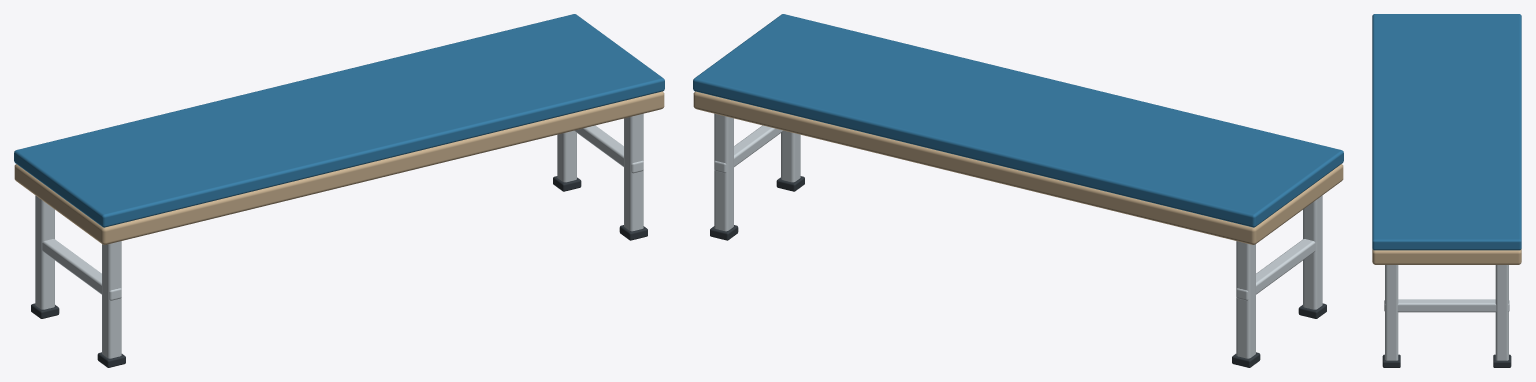
Rendered from equipment-bench.glb.
The picture shows the model from 3 angles, left to right: view 1: azimuth 30°, elevation 25°; view 2: azimuth 150°, elevation 25°; view 3: azimuth 270°, elevation 25°; orthographic projection. The views are drawn at different scales.
Parts seen in each view (by area): view 1: equipment-bench; view 2: equipment-bench; view 3: equipment-bench.
Part boxes in pixels (x1=…): equipment-bench: x1=14, y1=14, x2=664, y2=367; equipment-bench: x1=693, y1=14, x2=1343, y2=367; equipment-bench: x1=1372, y1=14, x2=1521, y2=367.
Size of the model in its own units: 1.8 by 0.49 by 0.4999.
